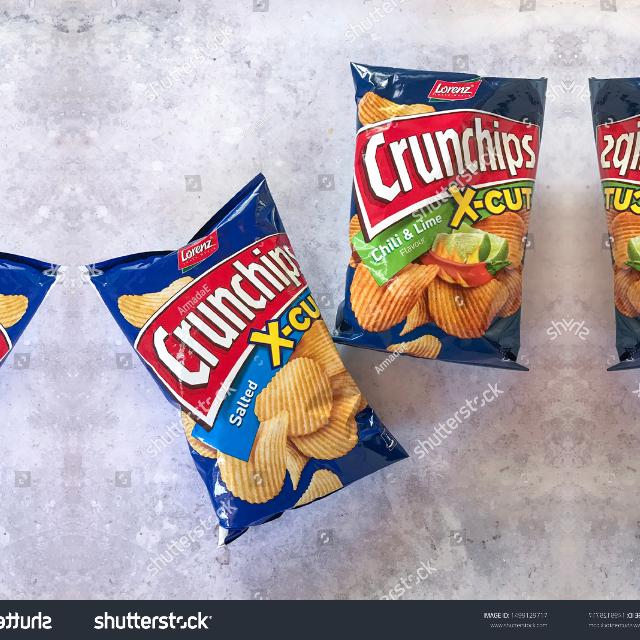crunchips: (134, 233, 308, 434), (354, 111, 541, 244)
